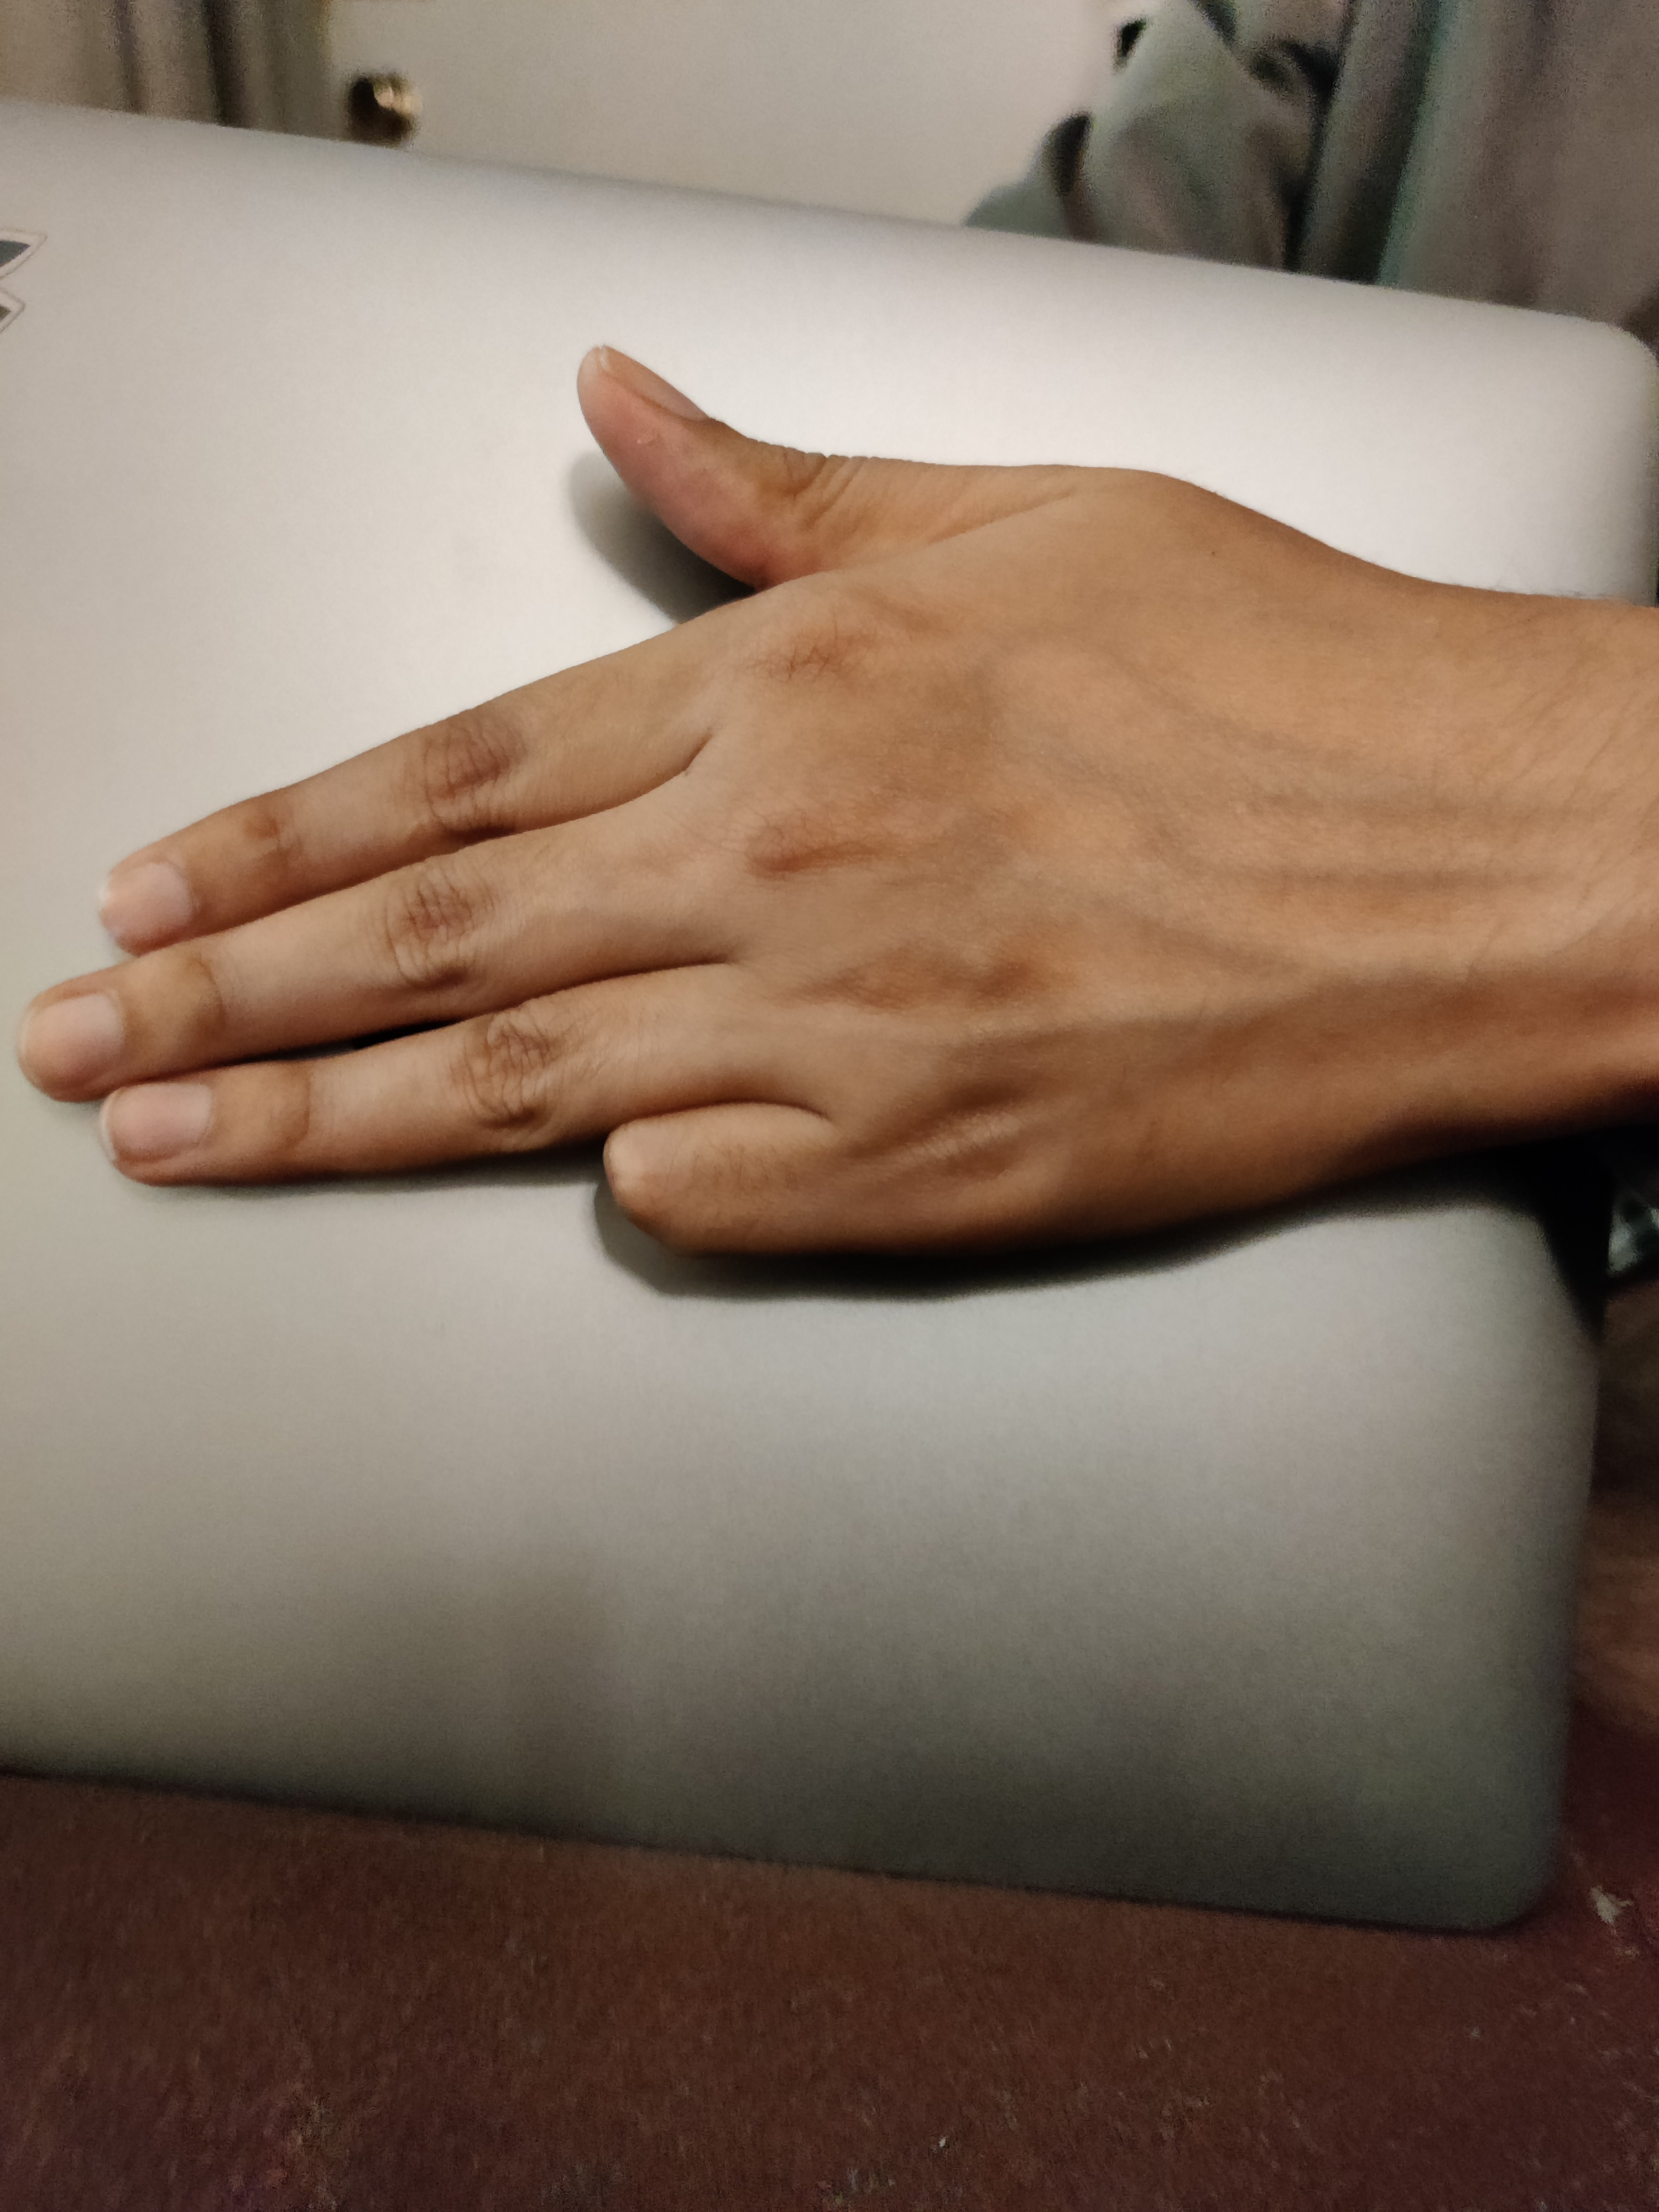right: (30, 249, 1589, 1550)
